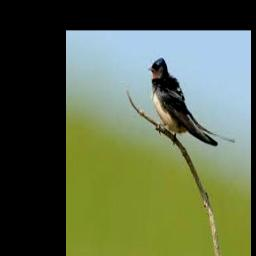Swallow: (149, 58, 235, 147)
